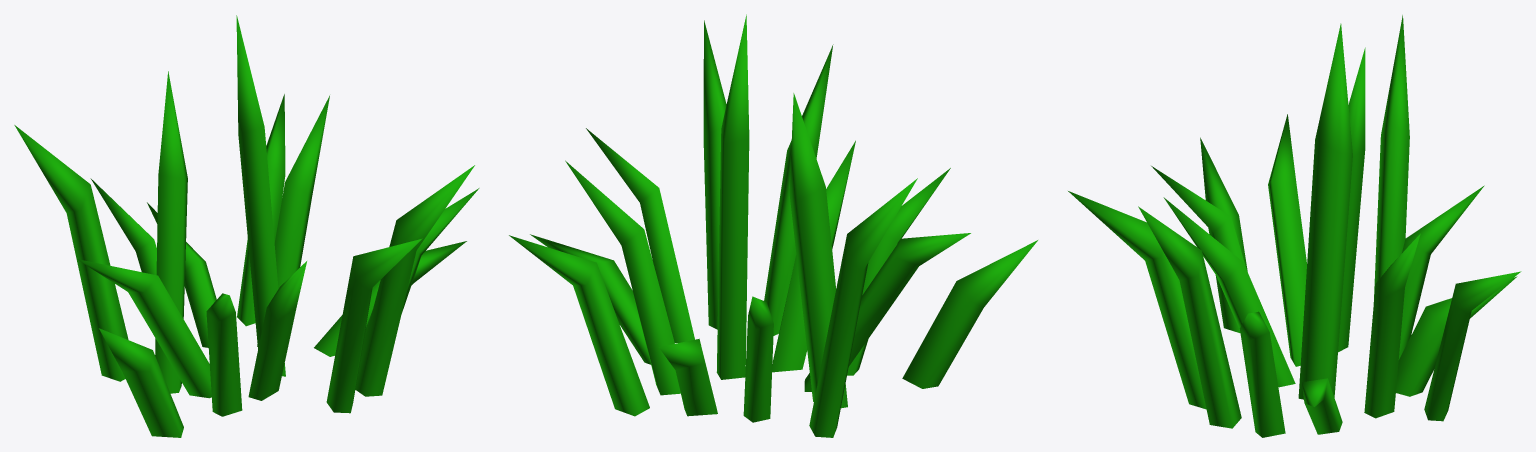
Rendered from grass_1.fbx.
The picture shows the model from 3 angles, left to right: view 1: azimuth 30°, elevation 25°; view 2: azimuth 150°, elevation 25°; view 3: azimuth 270°, elevation 25°; orthographic projection. The views are drawn at different scales.
Visible parts, largest first — view 1: rpgpp_lt_grass_small_01b; view 2: rpgpp_lt_grass_small_01b; view 3: rpgpp_lt_grass_small_01b.
Part boxes in pixels (x1,y1,x2,y2): rpgpp_lt_grass_small_01b: (14, 15, 479, 437); rpgpp_lt_grass_small_01b: (509, 14, 1037, 437); rpgpp_lt_grass_small_01b: (1068, 15, 1521, 437).
Size of the model in its own units: 147 by 118 by 134.
